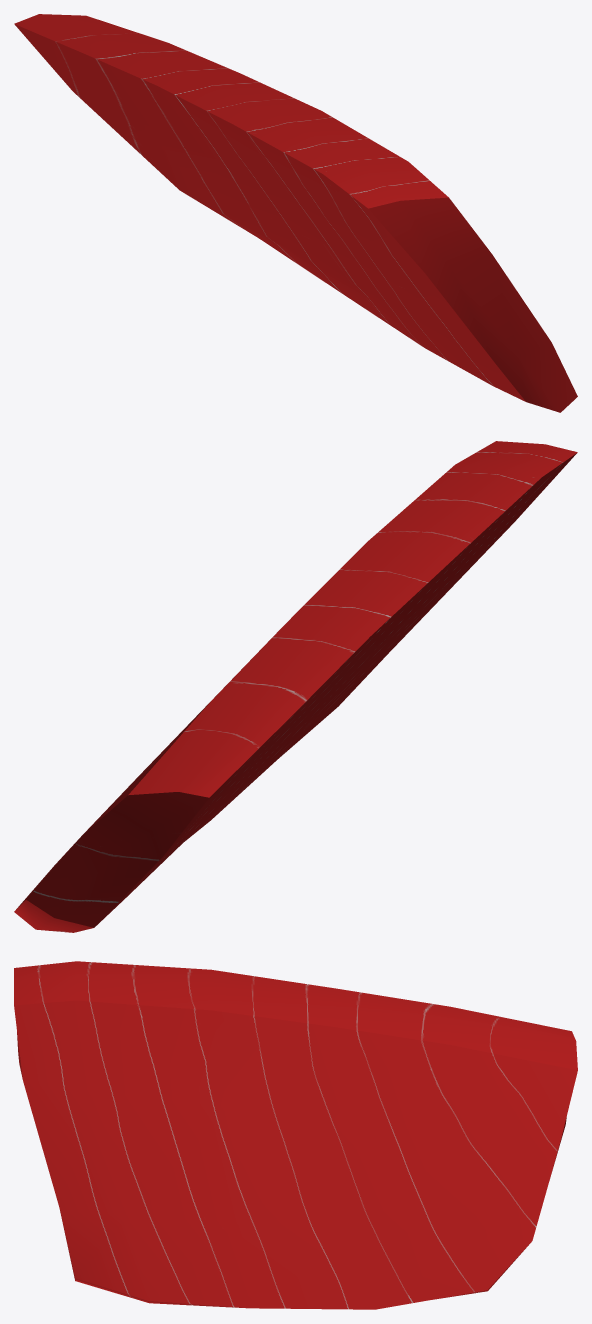
The model's file is re_maguro.fbx.
3 views of the same model, one above another, from view 1: azimuth 30°, elevation 25°; view 2: azimuth 150°, elevation 25°; view 3: azimuth 270°, elevation 25° (orthographic). The views are drawn at different scales.
Parts seen in each view (by area): view 1: MAGURO1; view 2: MAGURO1; view 3: MAGURO1.
Part boxes in pixels (x1,y1,x2,y2): MAGURO1: (14,14,577,412); MAGURO1: (14,441,577,932); MAGURO1: (14,961,577,1309).
Bounding box in the file's own units: 0.2115 × 0.2296 × 0.4654.
1 material, 1 textured.
